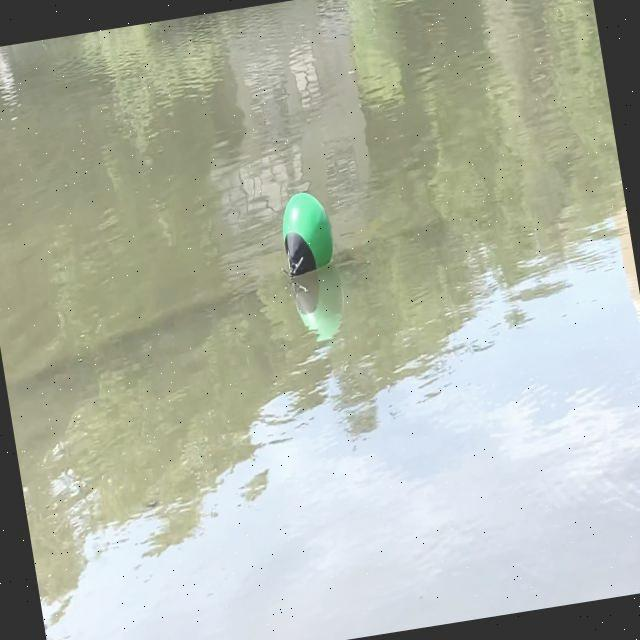buoy: (274, 187, 340, 280)
